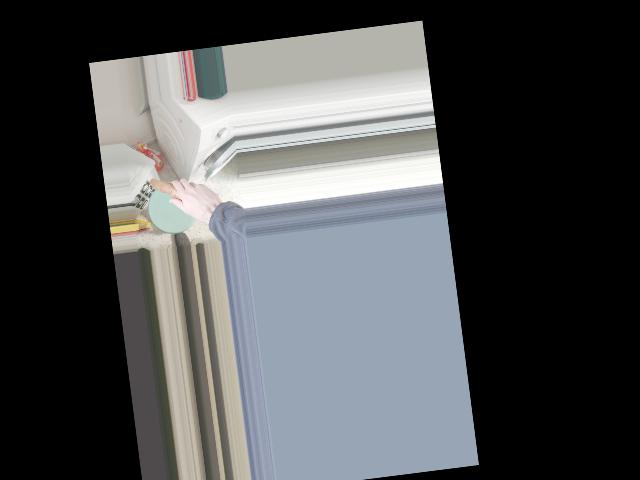sweet_potato: (151, 171, 206, 216)
